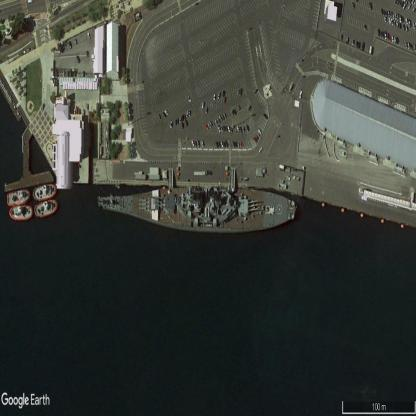ship: (97, 187, 295, 232), (35, 200, 57, 217), (33, 184, 56, 200), (7, 190, 30, 205), (10, 206, 32, 220)
